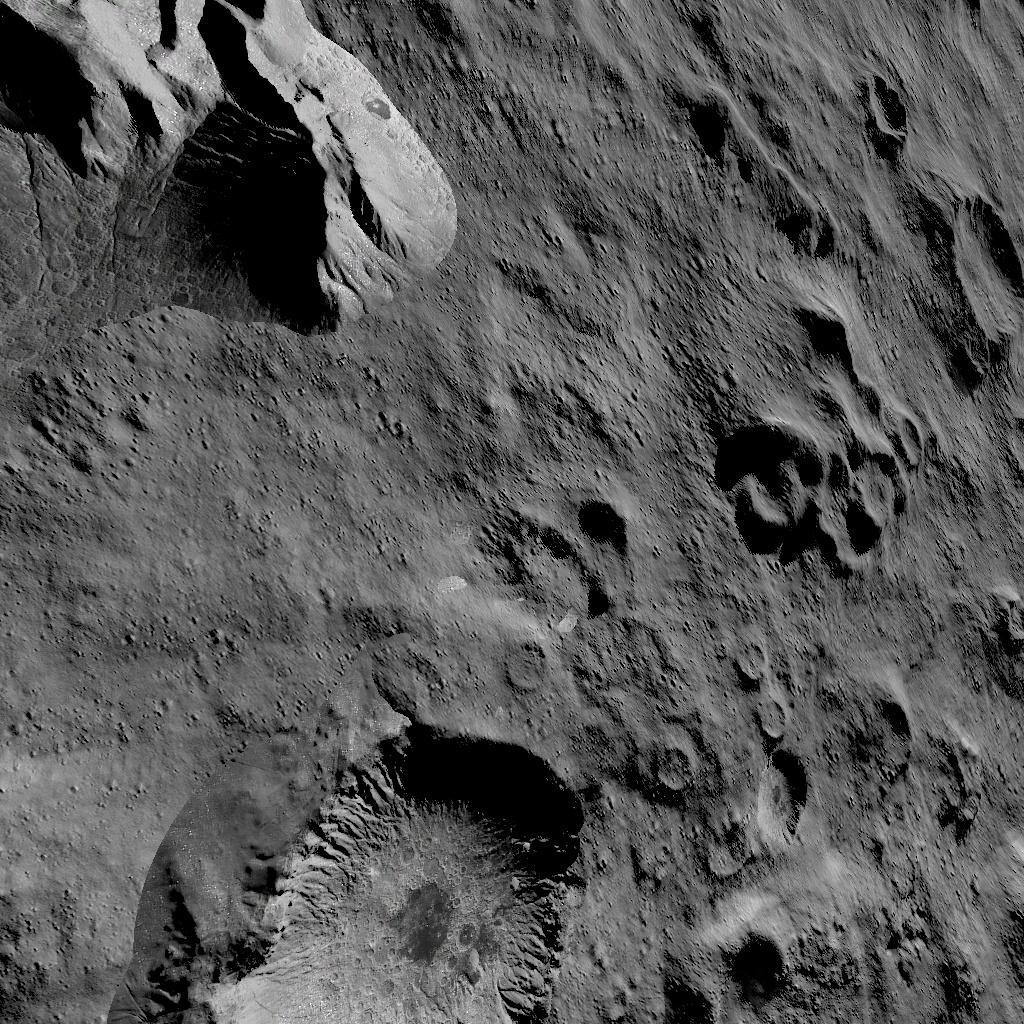Boulders: (1, 0, 463, 398)
Crater: (149, 720, 615, 1022), (721, 304, 941, 574), (731, 640, 826, 864), (501, 494, 642, 620), (952, 180, 1024, 364), (681, 922, 810, 1024), (867, 692, 932, 780), (864, 63, 927, 150), (505, 636, 560, 697), (651, 740, 704, 798)
Plan surface: (3, 408, 485, 710), (473, 24, 692, 392), (1, 718, 141, 1024)
